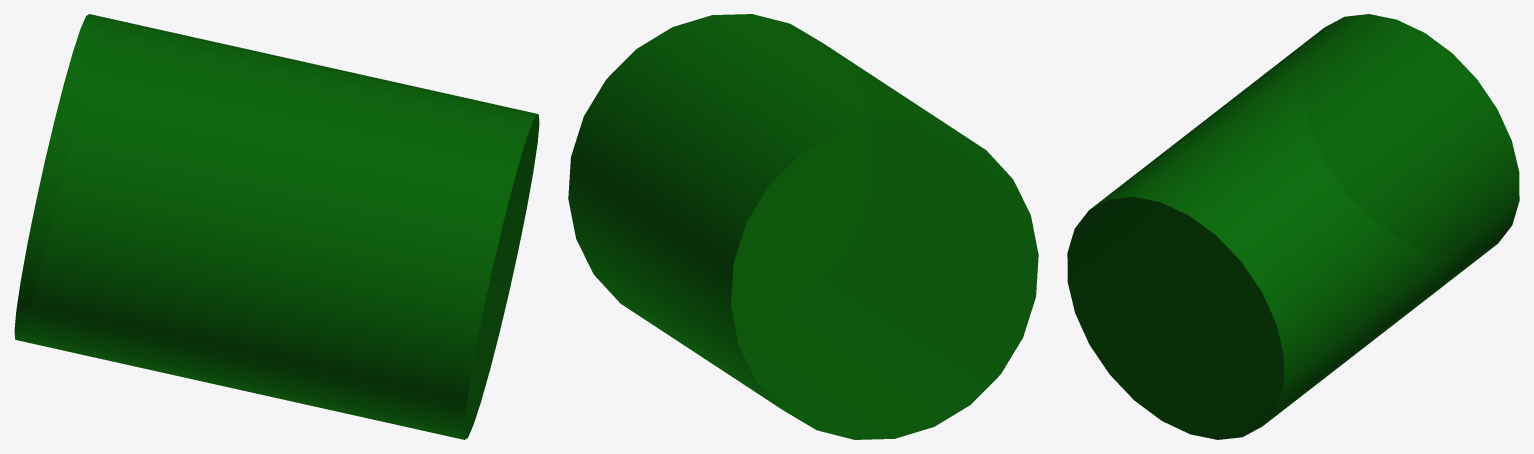
Rendered from Event_195102316_jet_6.fbx.
3 renders of one model, left to right at view 1: azimuth 30°, elevation 25°; view 2: azimuth 150°, elevation 25°; view 3: azimuth 270°, elevation 25°, orthographic. The views are drawn at different scales.
Parts seen in each view (by area): view 1: Model; view 2: Model; view 3: Model.
Boxes of the visible parts, x1=… form: Model: x1=14, y1=14, x2=539, y2=439; Model: x1=568, y1=14, x2=1038, y2=439; Model: x1=1067, y1=14, x2=1519, y2=439.
Bounding box in the file's own units: 0.0679 × 0.0488 × 0.0652.
